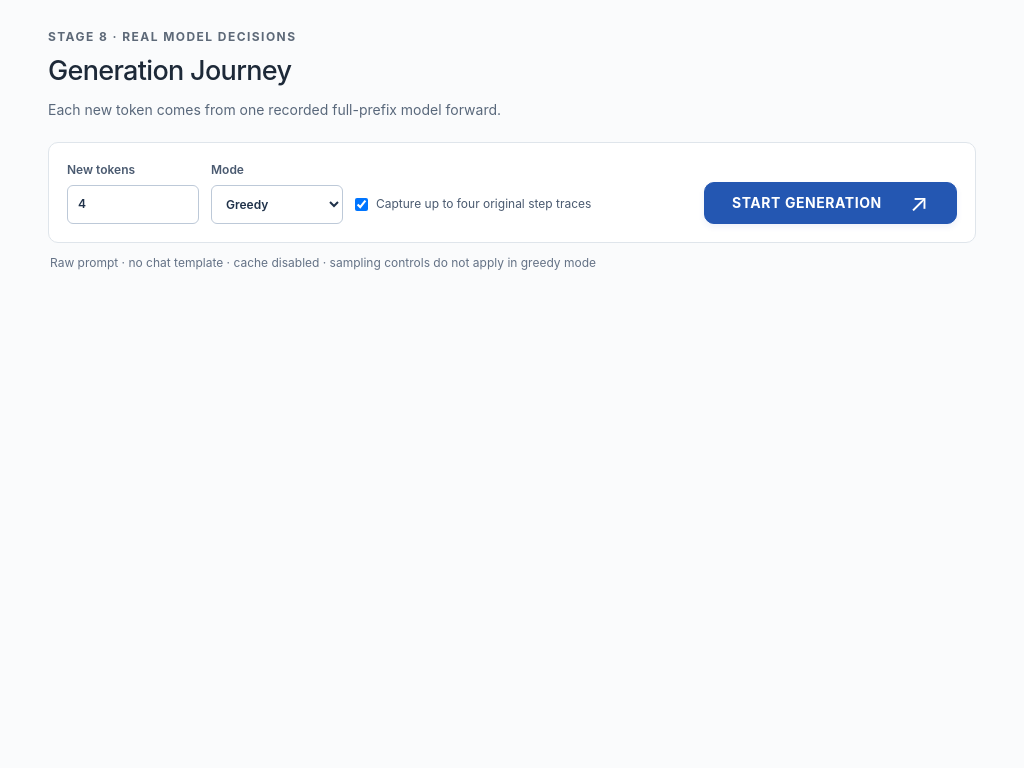
Generation Journey › does not offer inspector actions when no original trace was retained
Click the button "START GENERATION ↗".
click(831, 202)  # box [704,182,957,224]
(page scrolled)
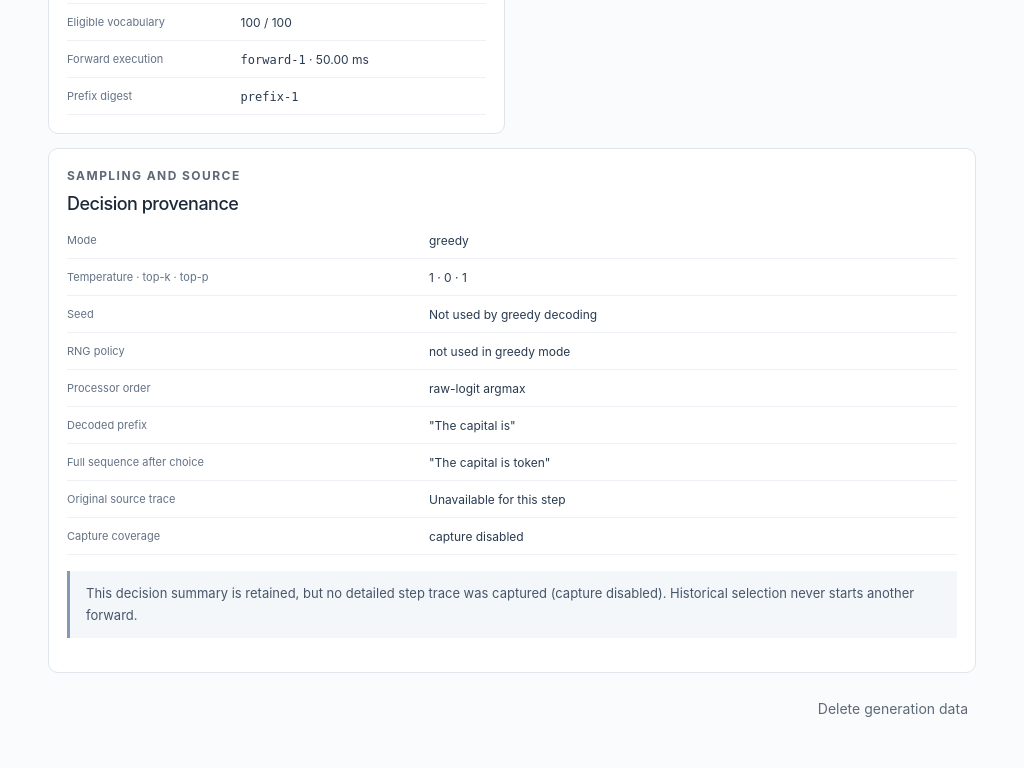
Expected: the text "no detailed step trace was captured" is shown, [86,585,914,623]
